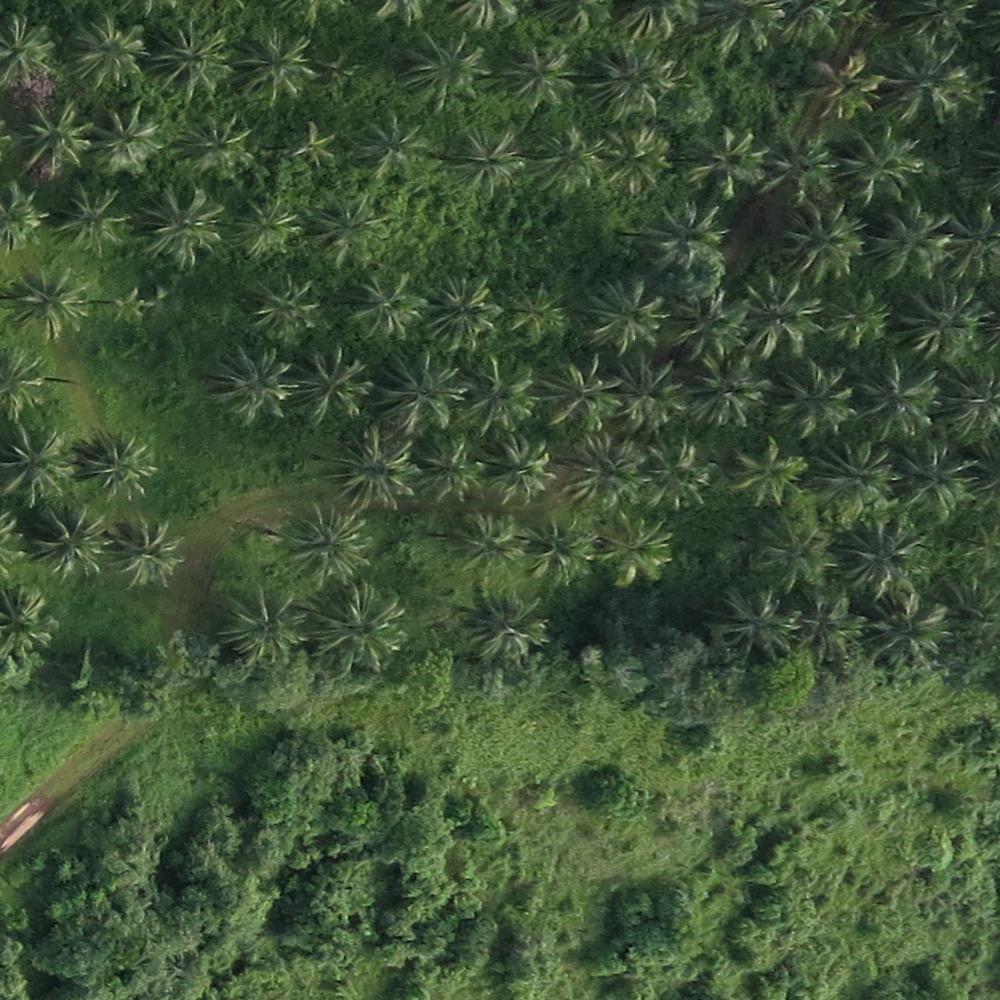Palm: (375, 351, 466, 436), (771, 357, 857, 441), (315, 586, 404, 667), (902, 277, 984, 362), (856, 355, 938, 440), (564, 429, 647, 511), (63, 12, 148, 92), (838, 510, 918, 595), (221, 583, 307, 662), (286, 507, 373, 585), (840, 125, 924, 205), (580, 276, 662, 356), (141, 184, 222, 264), (744, 274, 821, 358), (686, 352, 770, 429), (751, 512, 831, 592), (463, 588, 548, 663), (401, 34, 487, 108), (890, 44, 970, 123), (4, 262, 86, 339), (596, 512, 678, 588), (716, 586, 798, 662), (330, 431, 413, 506), (589, 44, 673, 118), (304, 189, 383, 267), (895, 439, 974, 517), (150, 23, 230, 99), (108, 511, 185, 589), (56, 179, 132, 258), (221, 348, 297, 426), (869, 594, 952, 665), (502, 35, 580, 110), (235, 27, 314, 101), (805, 48, 885, 121), (442, 506, 524, 577), (463, 356, 539, 432), (350, 266, 428, 339), (542, 360, 620, 433), (4, 424, 77, 502), (34, 504, 111, 577), (425, 273, 497, 351), (875, 207, 951, 280), (89, 104, 162, 179), (727, 439, 805, 509), (446, 125, 524, 194), (75, 428, 153, 497), (813, 438, 891, 507), (688, 128, 762, 200), (675, 290, 749, 362), (19, 101, 89, 177), (617, 356, 686, 433), (642, 436, 711, 513), (486, 428, 558, 501), (787, 209, 865, 276), (246, 277, 320, 347), (520, 513, 595, 582), (763, 133, 835, 204), (180, 109, 253, 179), (299, 350, 368, 423), (413, 434, 484, 504), (605, 123, 672, 195), (231, 190, 297, 260), (824, 285, 889, 354), (363, 109, 428, 177), (532, 128, 600, 193), (800, 595, 863, 664), (660, 207, 725, 267)
